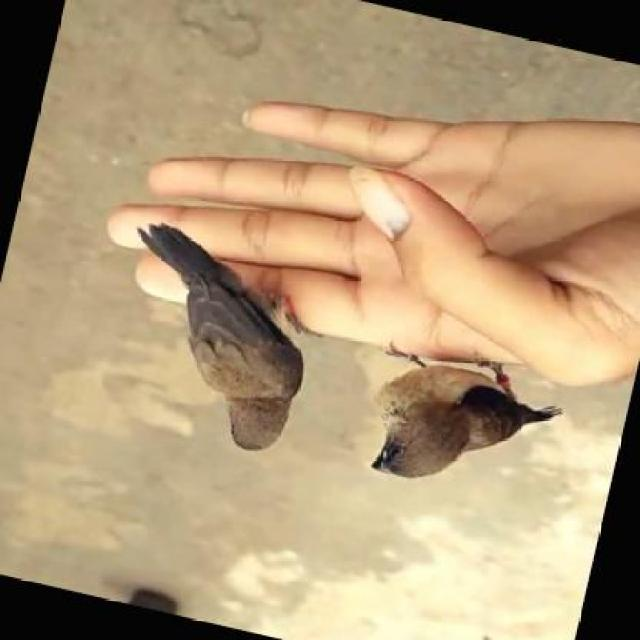Bird: (106, 199, 301, 492), (345, 337, 573, 483)
